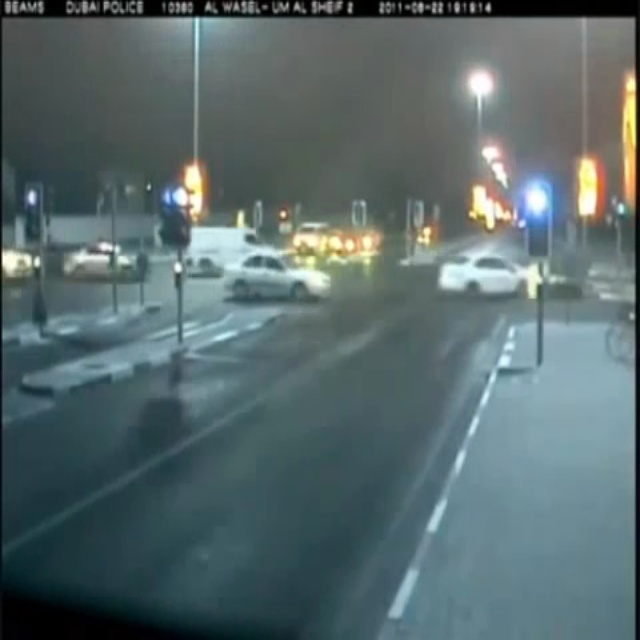acc: (420, 241, 588, 307)
